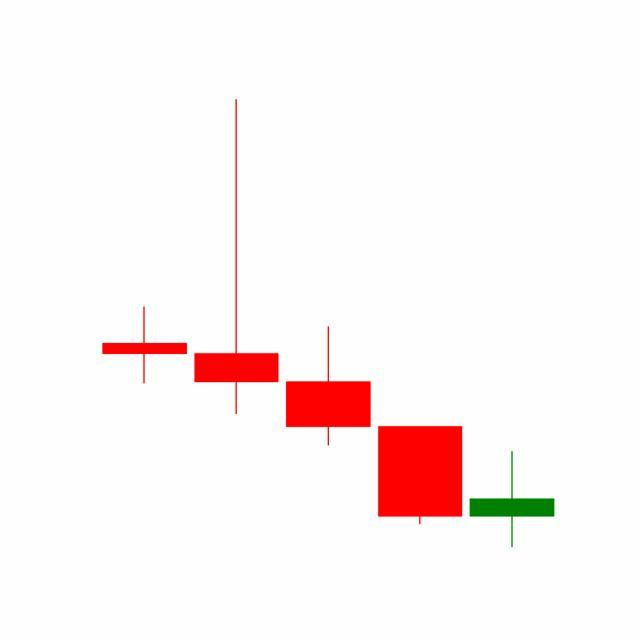Marubozu: (374, 425, 468, 527)
